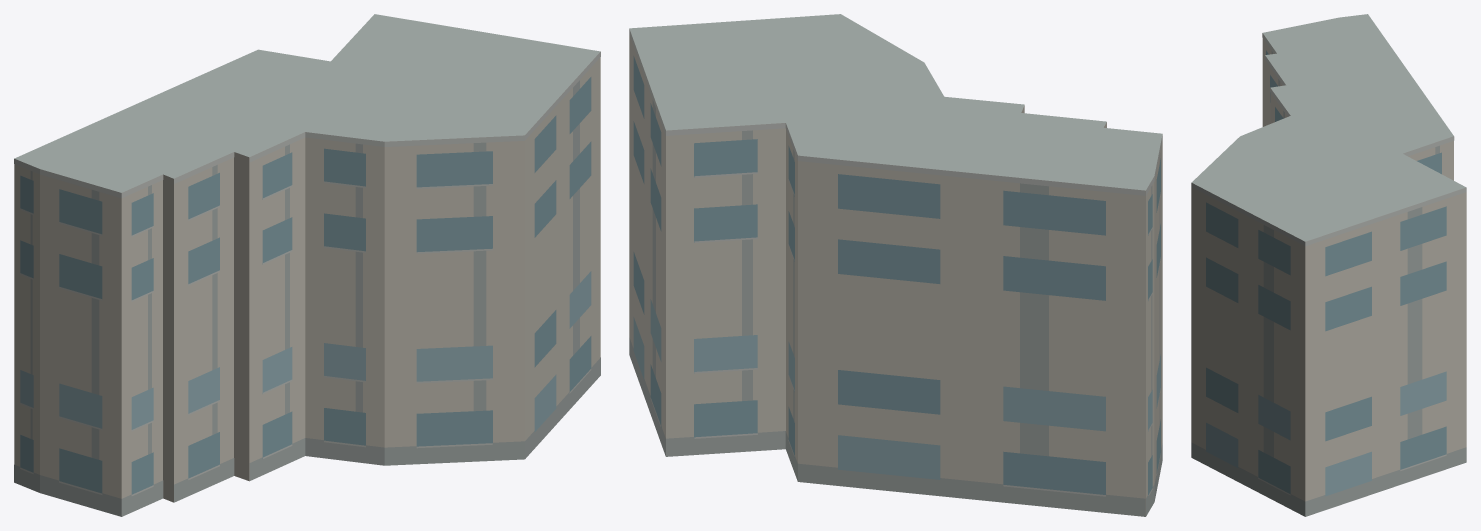
Rendered from survey-upis-33026681.glb.
The picture shows the model from 3 angles, left to right: view 1: azimuth 30°, elevation 25°; view 2: azimuth 150°, elevation 25°; view 3: azimuth 270°, elevation 25°; orthographic projection. The views are drawn at different scales.
Visible parts, largest first — view 1: survey-upis-33026681.tmp; view 2: survey-upis-33026681.tmp; view 3: survey-upis-33026681.tmp.
Boxes of the visible parts, x1,y1,x2,y2 form: survey-upis-33026681.tmp: (14,14,600,516); survey-upis-33026681.tmp: (629,14,1162,516); survey-upis-33026681.tmp: (1191,14,1466,516).
Size of the model in its own units: 25.75 by 14.5 by 13.15.
